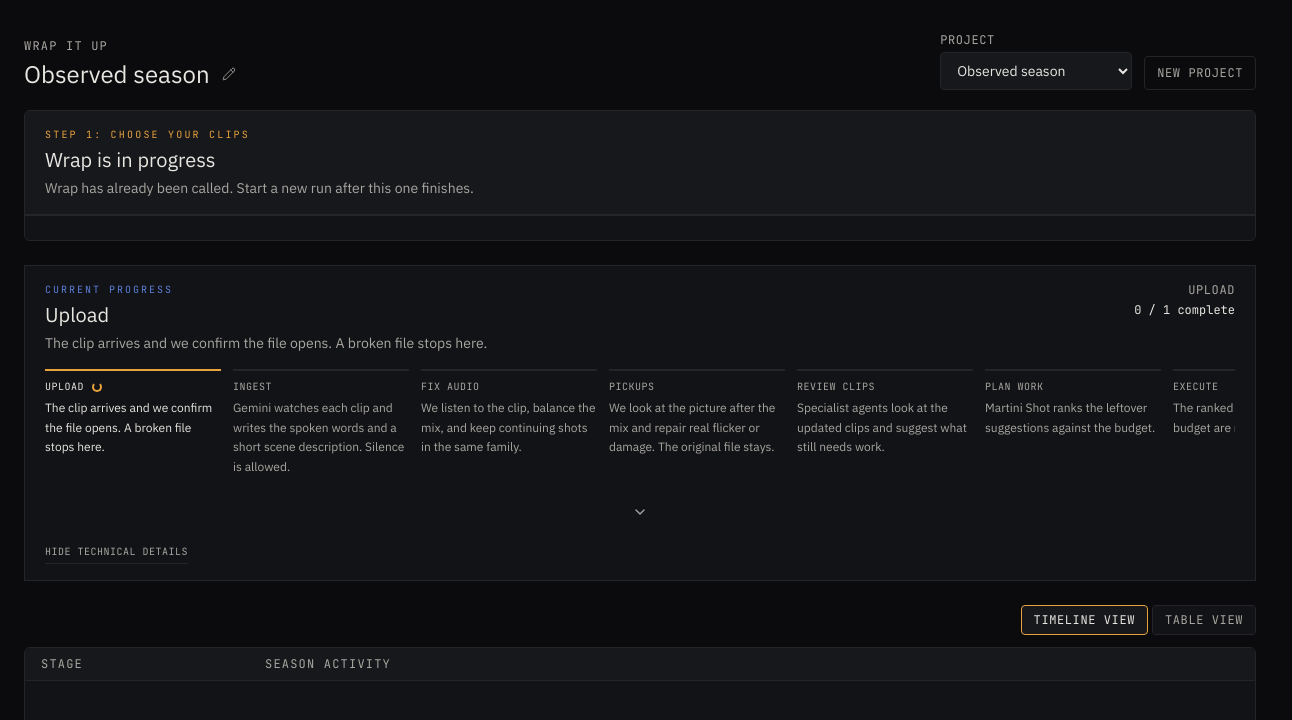
Test: TimelineRoute investigation flow › hides extra work detail under current progress until the chevron is opened
Expected: the text "Current progress" is shown, top-left (45, 283), bottom-right (173, 296)
Expected: the text "unhearable" is not shown
Click the button named "more detail about this run": (640, 512) top-left (624, 496), bottom-right (656, 528)
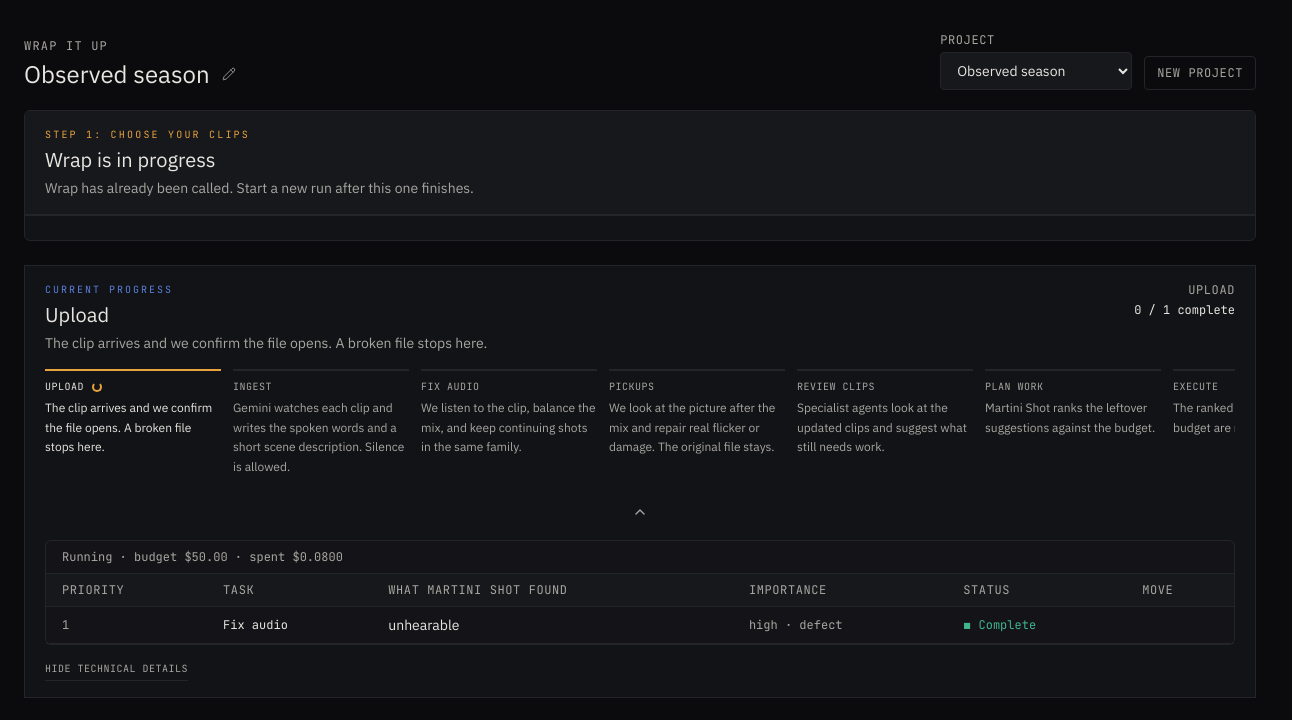
Expected: the button named "more detail about this run" is expanded, top-left (624, 496), bottom-right (656, 528)
Expected: the text "unhearable" is shown, top-left (372, 606), bottom-right (733, 644)
